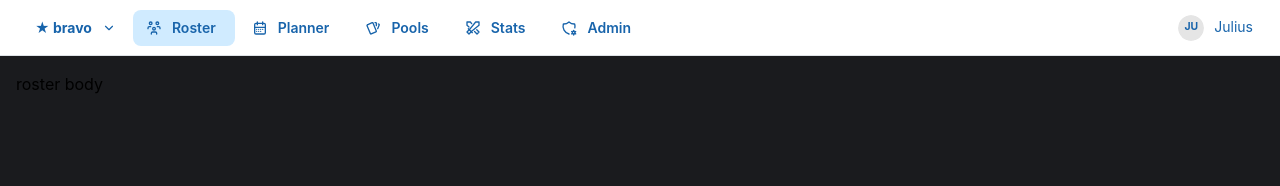
Test: AppLayout navigation › “My profile” keeps the team the URL names
What coordinates should you click on to do the following:
click the button "JU Julius"
I would click on:
 (1216, 28)
Its box is [1167,10,1264,46].
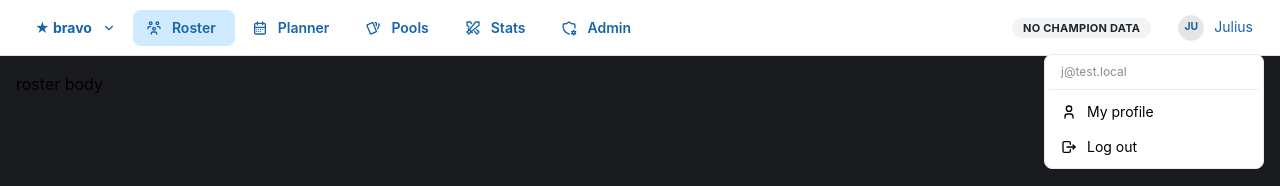
What coordinates should you click on to do the following:
click the menu item "My profile"
I would click on:
 (1154, 112)
Its box is [1049,94,1259,129].
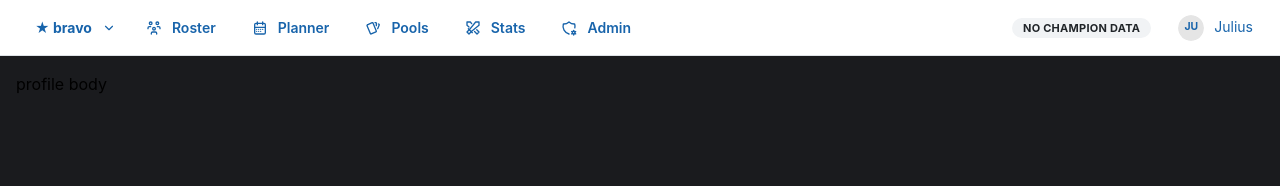
Now the text "profile body" is shown, box [16,74,107,94]
